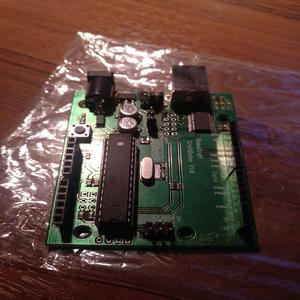duino: (42, 50, 252, 264)
